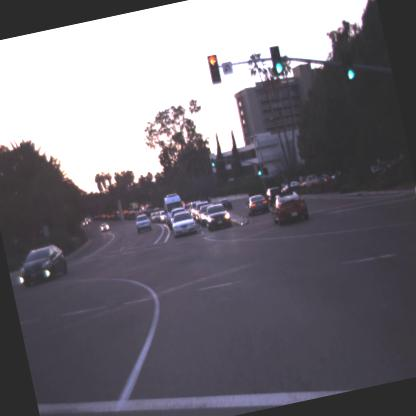trafficlight: (338, 58, 372, 90), (204, 51, 226, 89), (267, 42, 287, 78), (254, 160, 265, 179), (209, 156, 216, 169)
